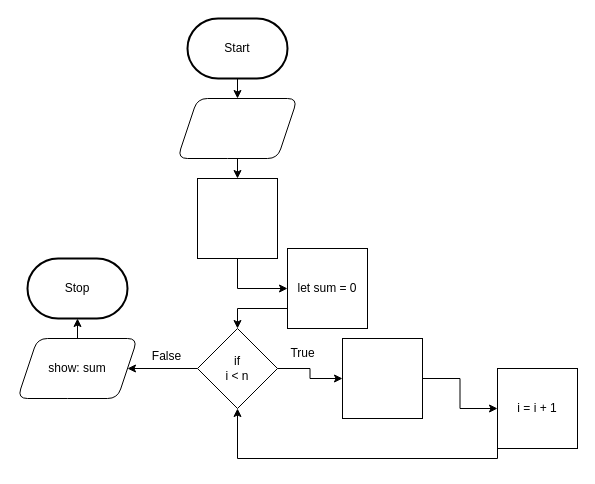
Some shapes in this 595 by 484 pixel diagram are drawn without their labels. The shapes that lost their labels are listed below. From the top down, each one's box as (x1, y1, x2, y2) in pixels, then its label:
(176, 98, 298, 158): User enters: n
(196, 178, 278, 258): let i = 1
(342, 338, 422, 418): sum = sum + i
